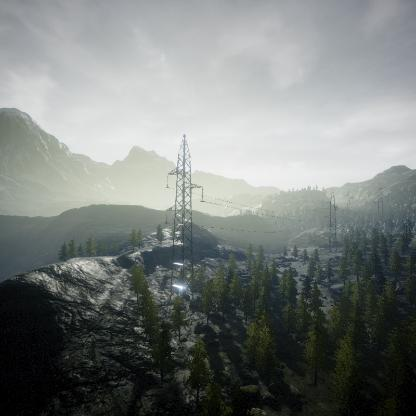tower: (163, 132, 205, 316), (321, 188, 343, 250)
